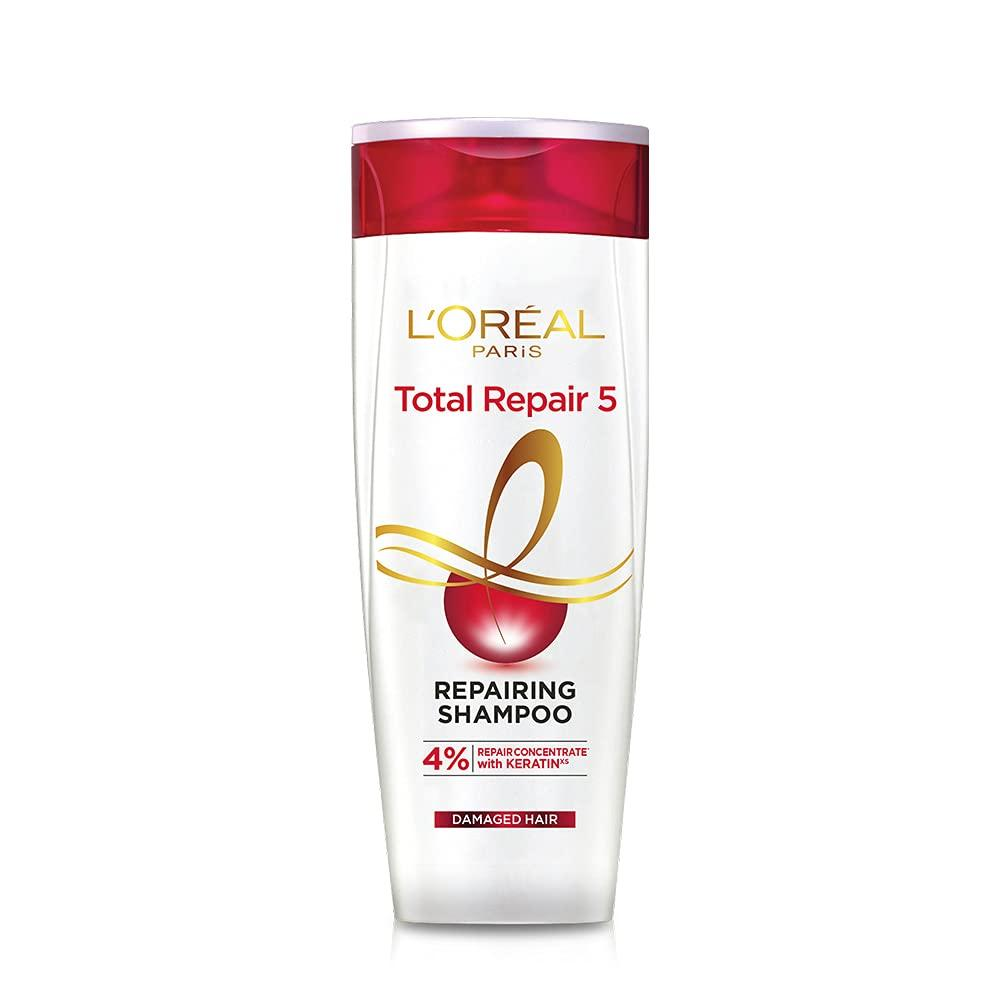Loreal: (346, 118, 653, 931)
